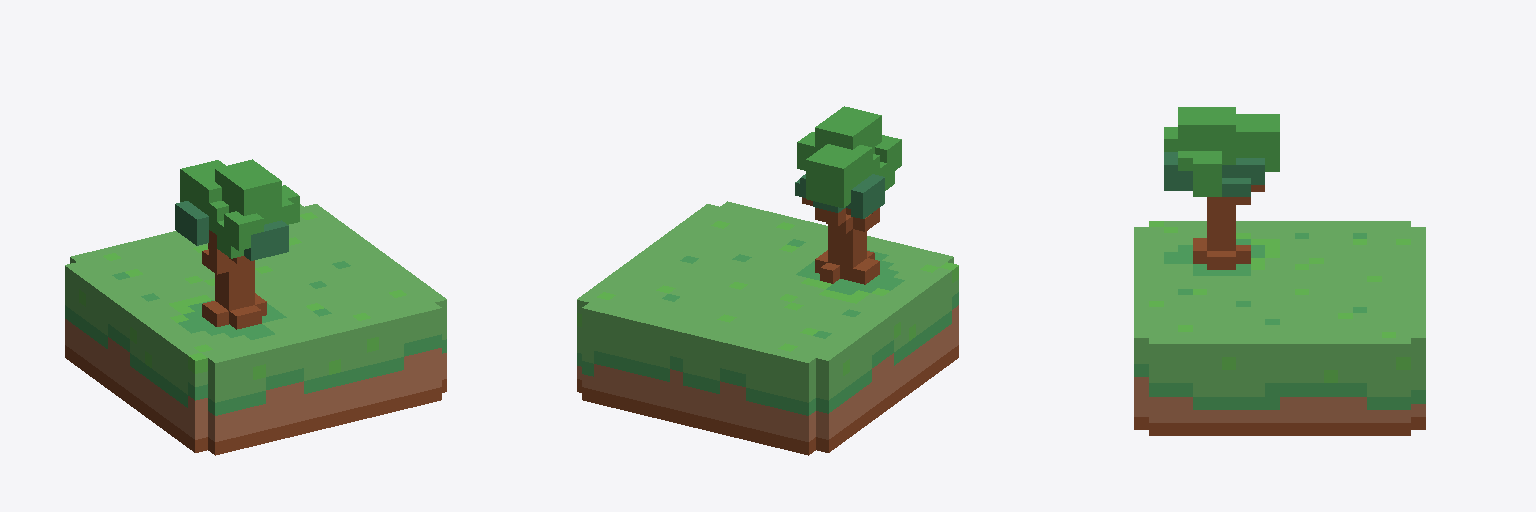
3 views of the same model, side by side, from view 1: azimuth 30°, elevation 25°; view 2: azimuth 150°, elevation 25°; view 3: azimuth 270°, elevation 25° (orthographic).
Visible parts, largest first — view 1: object 1; view 2: object 1; view 3: object 1.
Part boxes in pixels (left/top/right/bottom): object 1: left=65, top=159, right=446, bottom=455; object 1: left=577, top=106, right=958, bottom=455; object 1: left=1134, top=107, right=1425, bottom=435.
Size of the model in its own units: 2 by 1.8 by 2.
Materials: 1 (1 with a texture image).